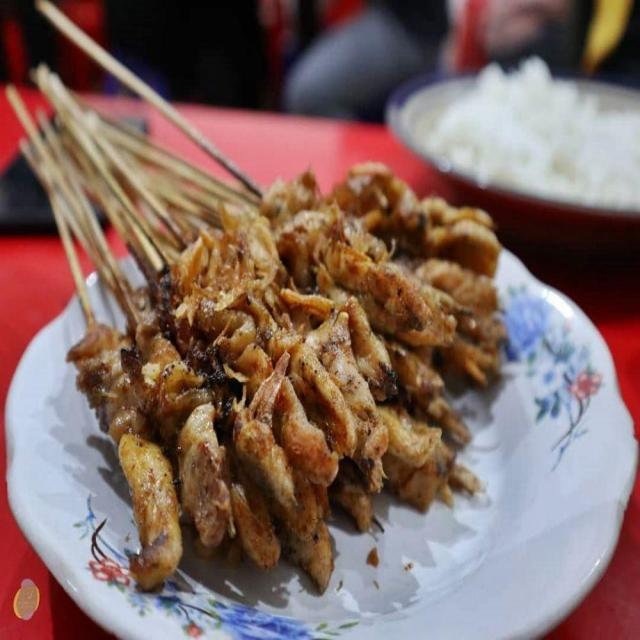Sate: (0, 156, 498, 599)
